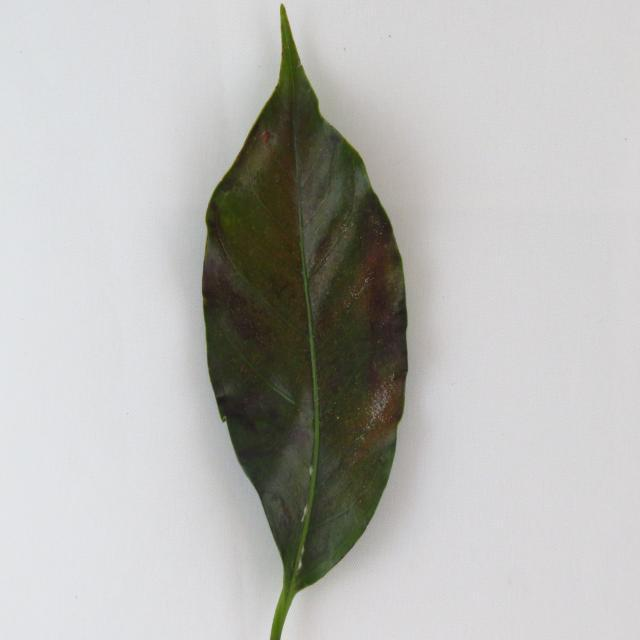DeficienciaNutricional-Fosforo: (202, 8, 408, 590)
